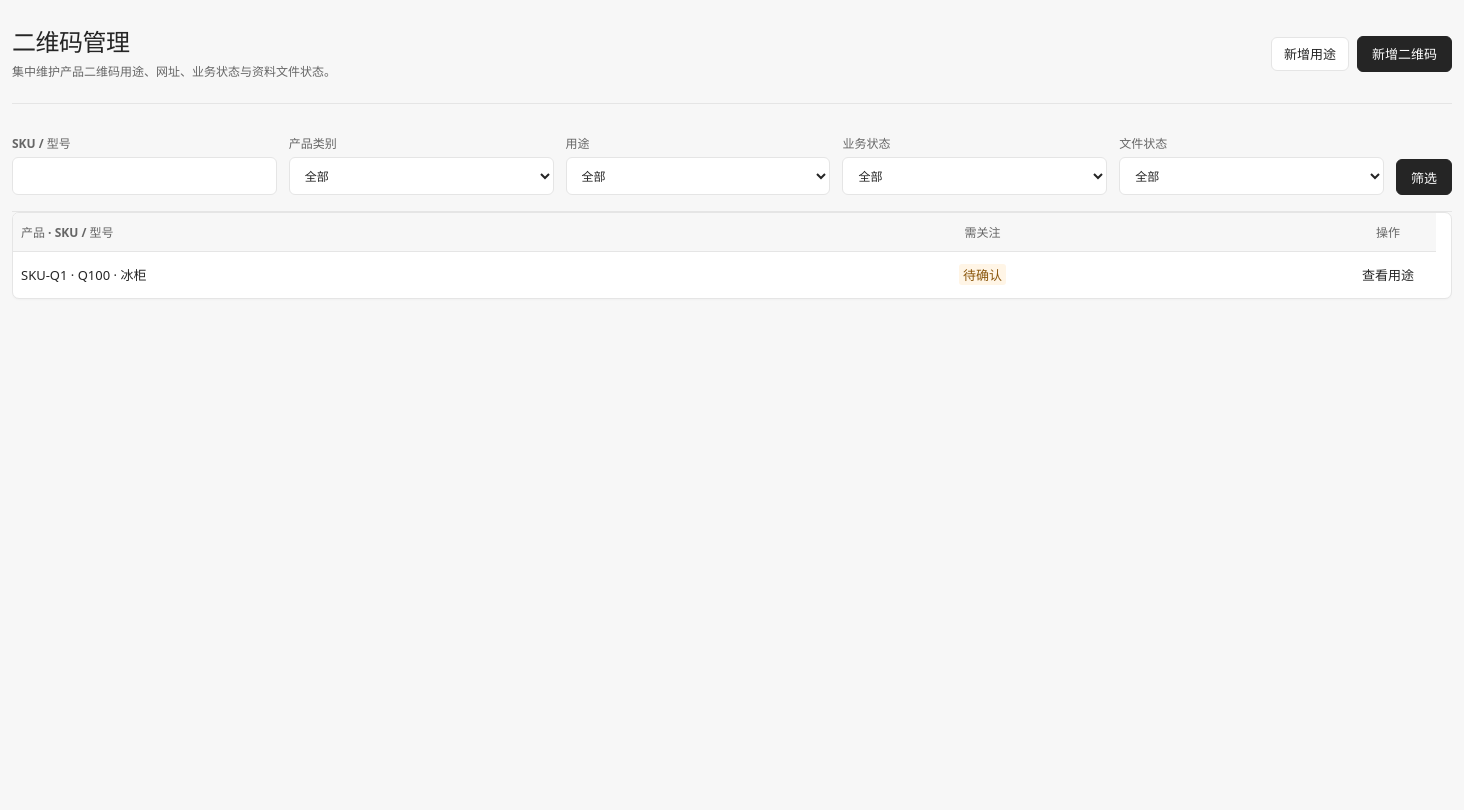
Test: QrCodesPage › offers nearby create, edit, status, and protected delete controls with separate match status
Click the button "新增二维码": (1404, 54) [1357,36,1452,72]
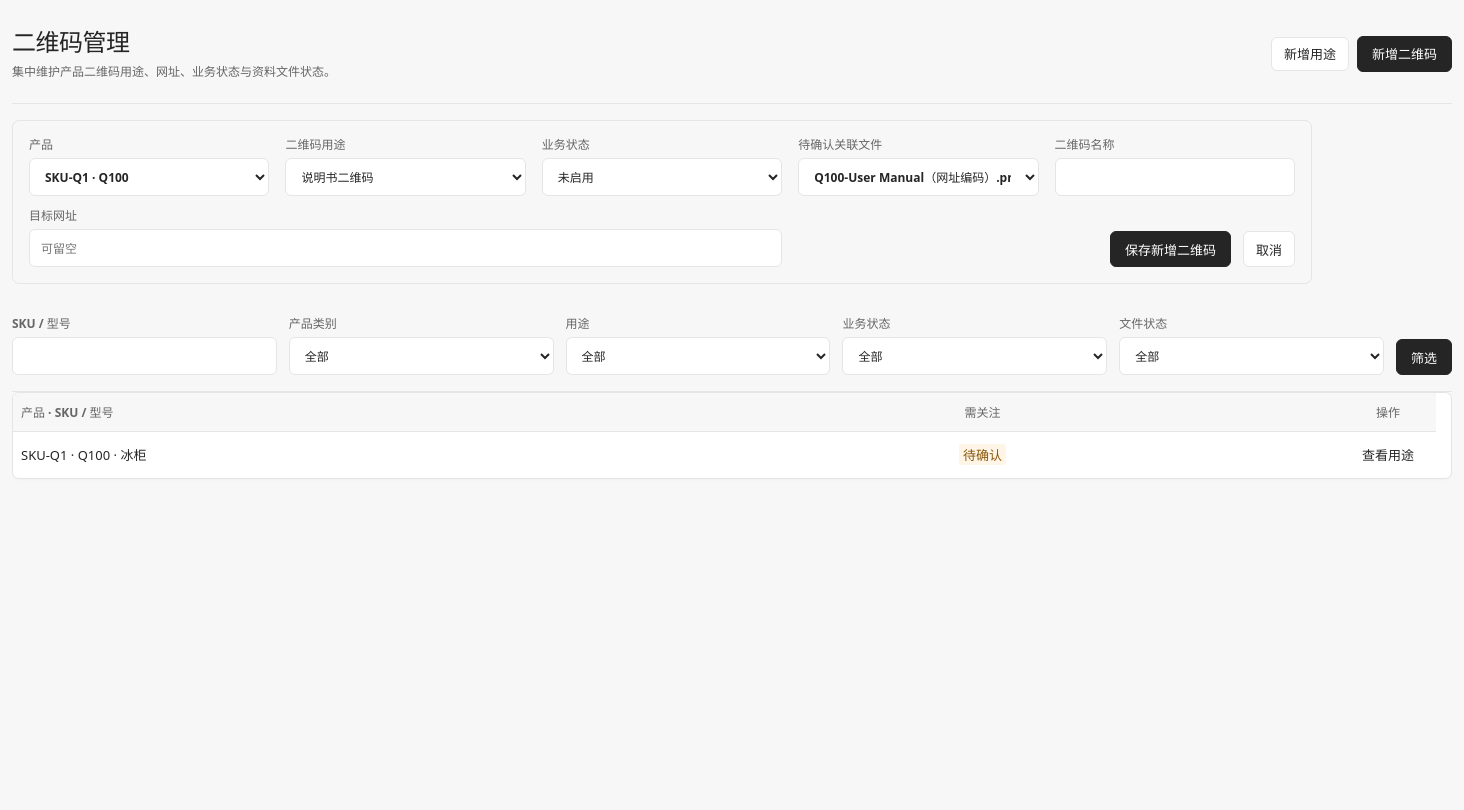
Expected: the dropdown named "新增二维码产品" is shown, [29,158,269,196]
Expected: the dropdown named "新增二维码用途" is shown, [285,158,526,196]
Expected: the dropdown labelled "待确认关联文件" is shown, [798,158,1039,196]
Select "启用" in the dropdown named "新增二维码状态": (662, 177) [542,158,782,196]
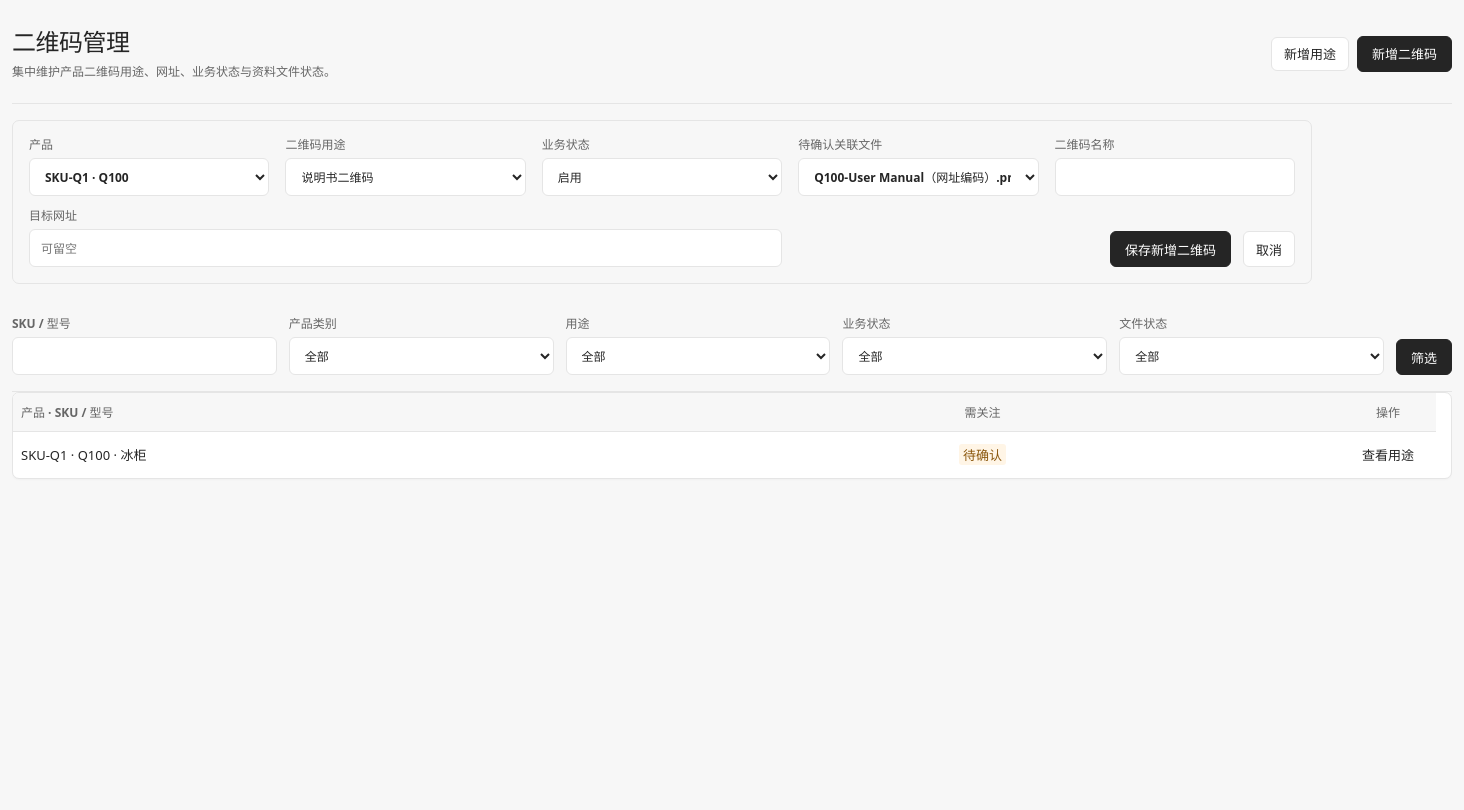
In the field labelled "二维码名称": (1175, 177) [1055,158,1295,196], type "Q100 新说明书"
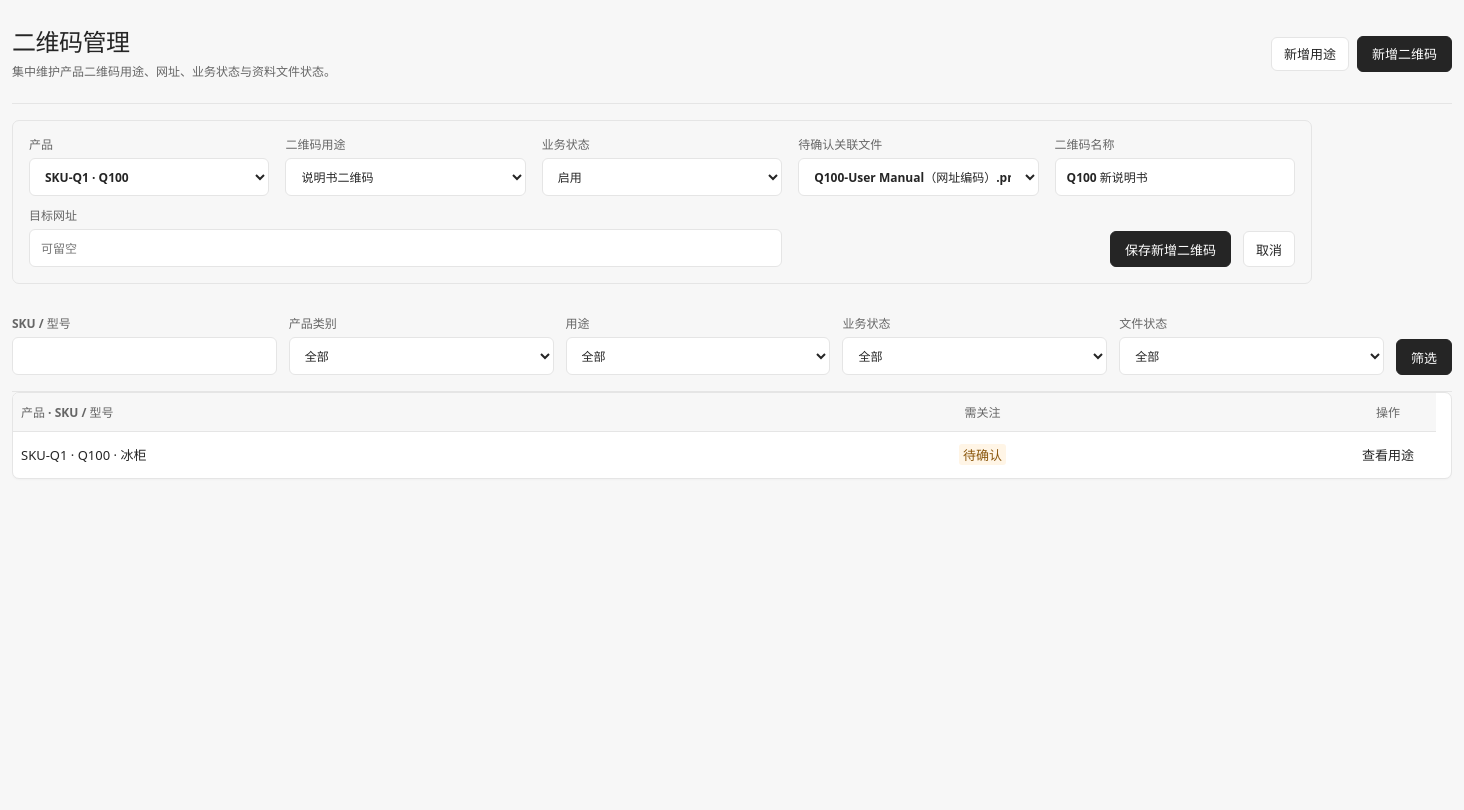
Click the button "保存新增二维码": (1170, 249) [1110,231,1231,267]
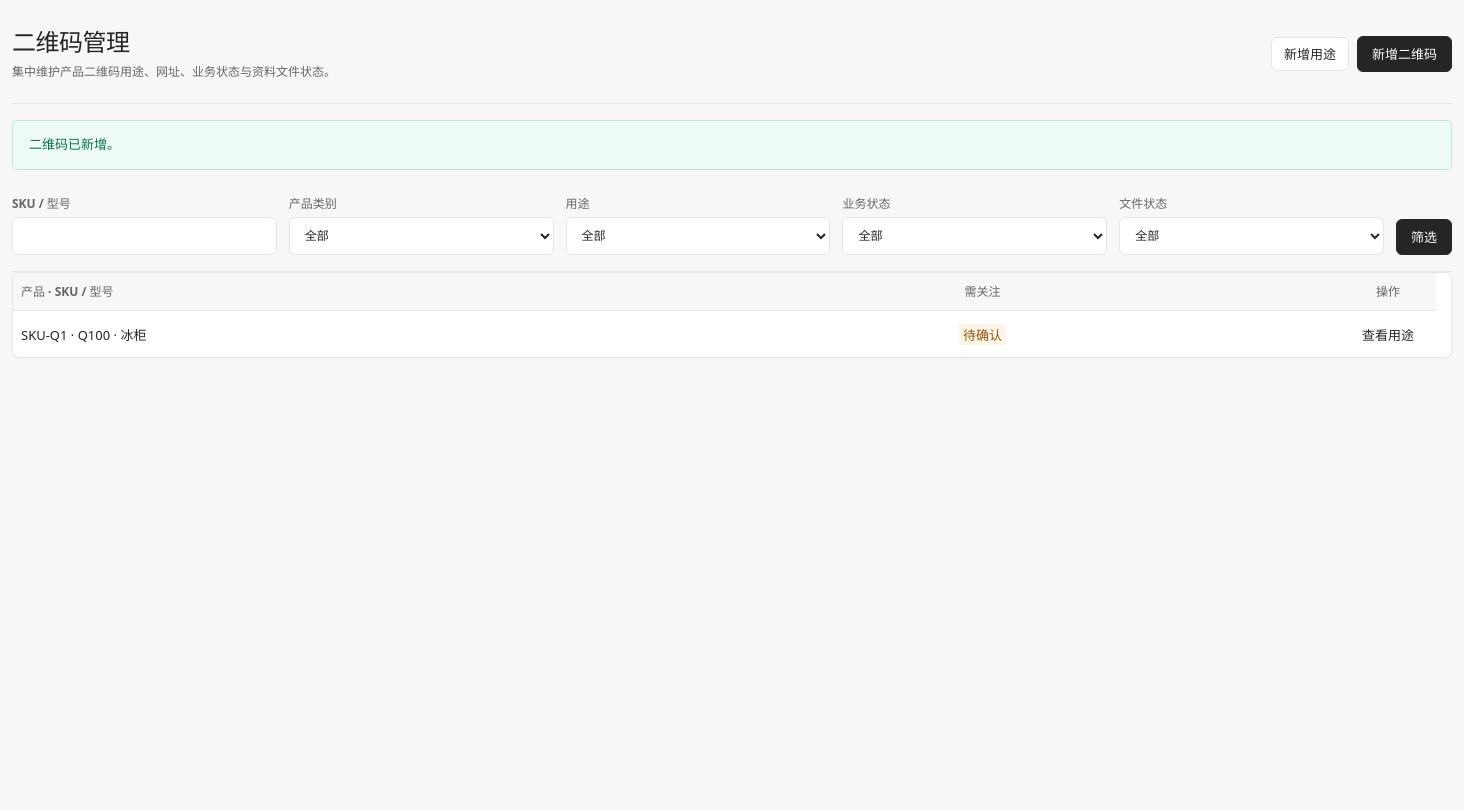
Click the button with aria-label "展开 Q100 的二维码用途": (1388, 334) [1362,320,1414,348]
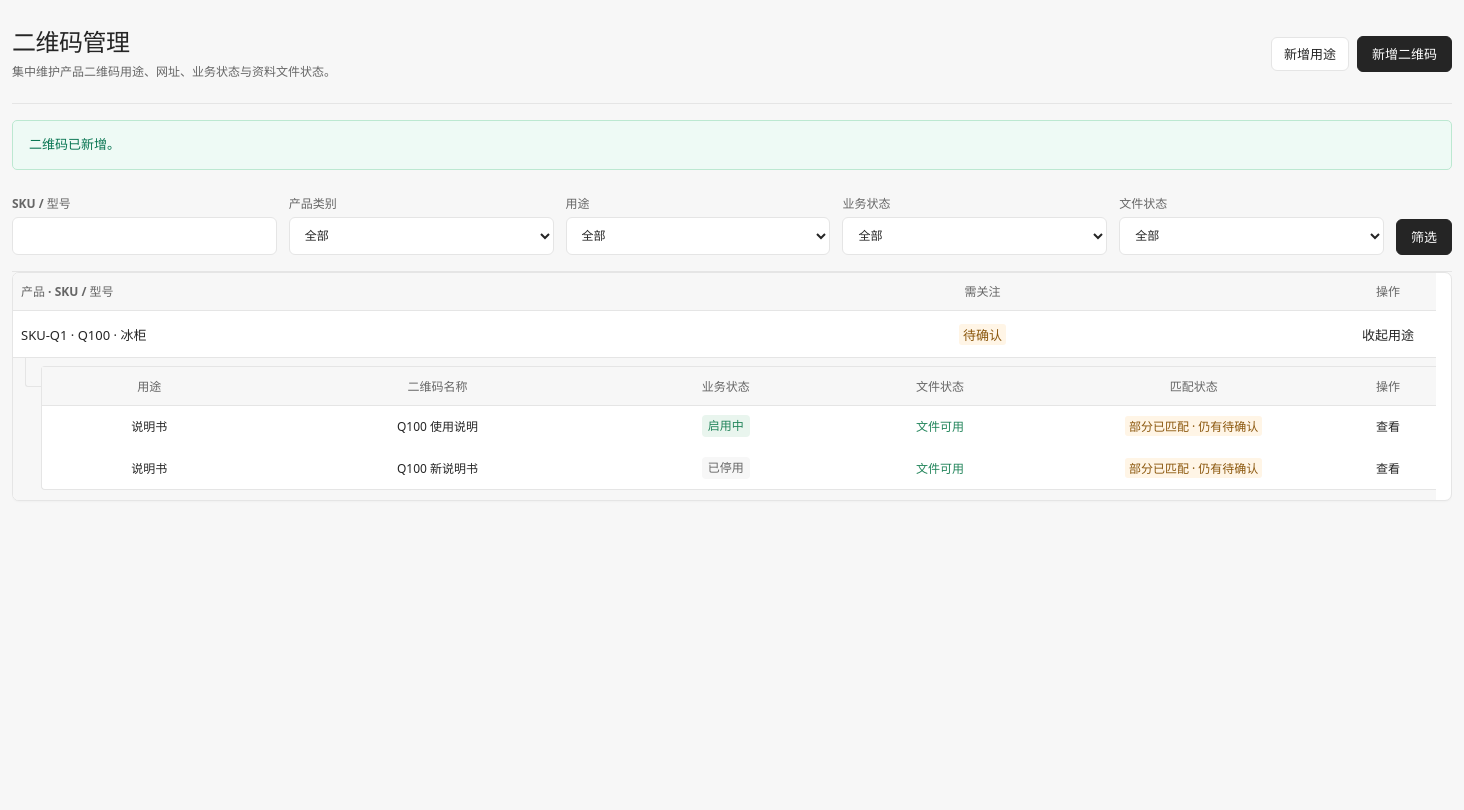
Click the button with aria-label "查看 Q100 使用说明": (1388, 426) [1376,412,1400,440]
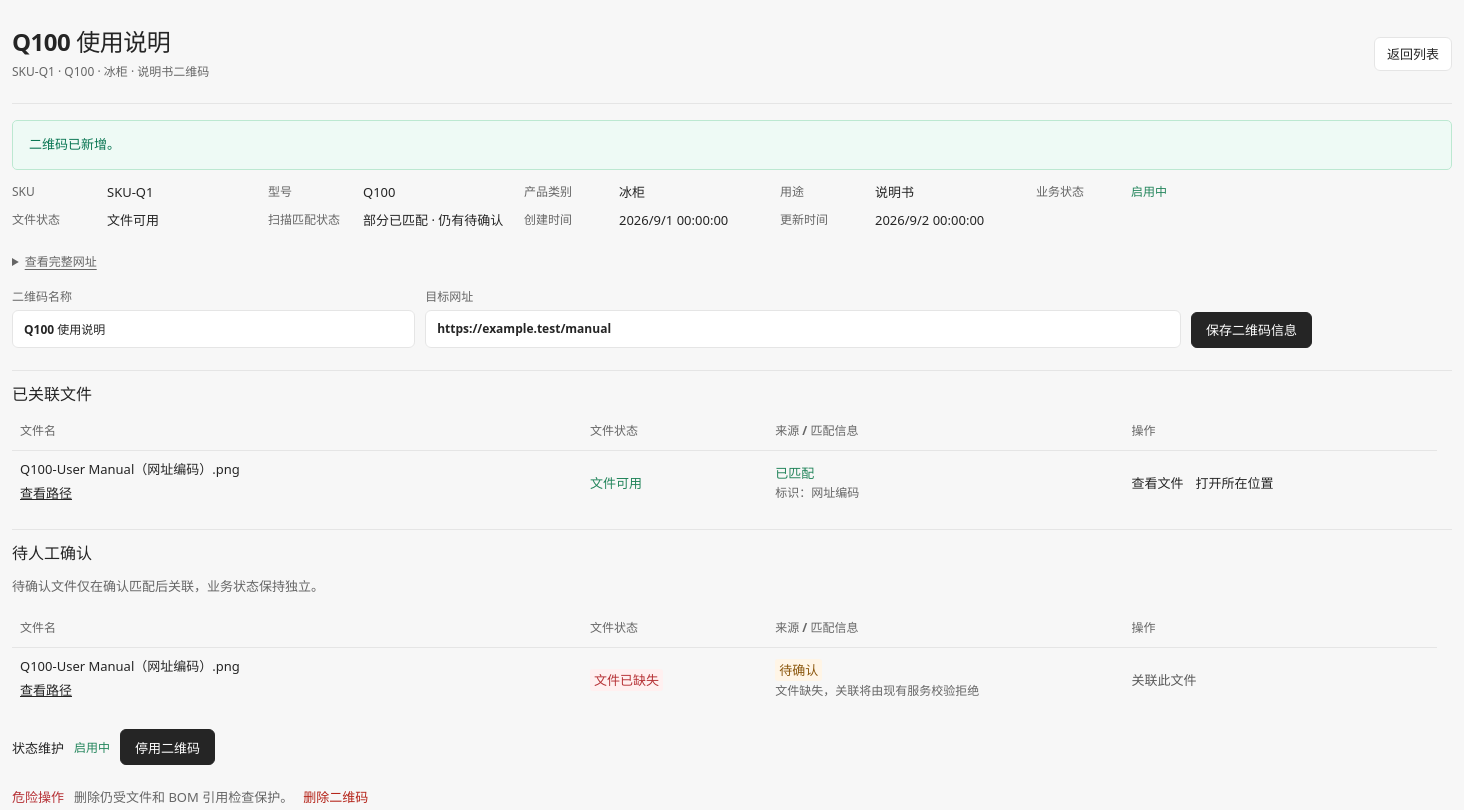
Expected: the text "扫描匹配状态" is shown, [268,210,340,228]
Expected: the text "标识：网址编码" is shown, [775,484,859,501]
Expected: the button "删除二维码" is shown, [303,782,368,809]
